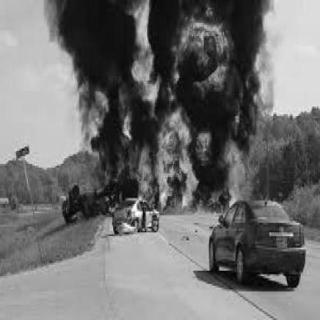Fire: (86, 15, 246, 228)
Smoke: (49, 0, 141, 148), (228, 0, 288, 120)
